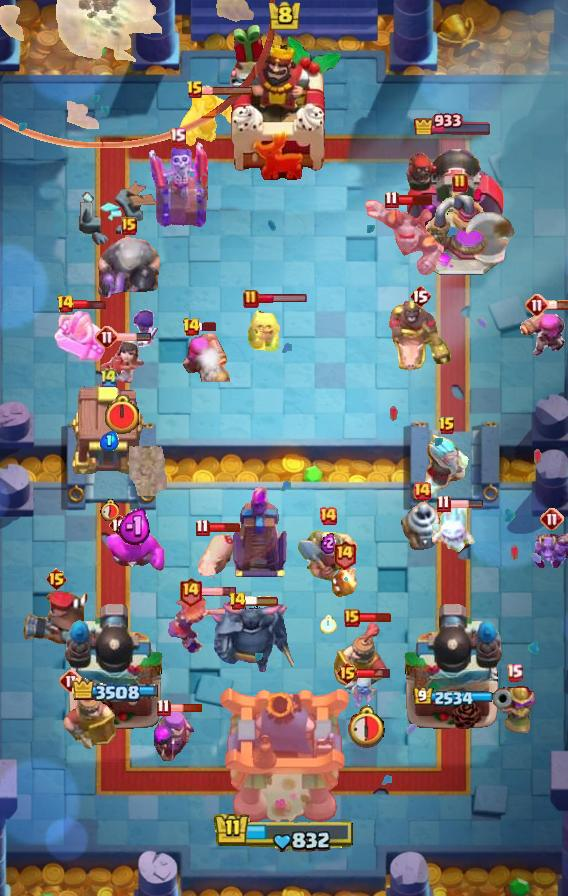axe: (462, 211, 518, 265)
bar: (202, 85, 254, 96), (257, 293, 308, 304), (397, 193, 434, 206), (72, 298, 107, 311), (244, 595, 280, 607), (357, 667, 392, 679), (200, 586, 237, 597), (358, 612, 392, 623), (207, 522, 241, 533), (448, 499, 484, 509), (116, 332, 152, 342), (168, 703, 203, 713), (546, 299, 568, 311), (198, 321, 218, 332)
bar-level: (178, 576, 203, 607), (332, 539, 357, 570), (59, 669, 83, 693), (540, 507, 564, 531), (95, 325, 119, 349), (525, 293, 549, 317), (336, 661, 359, 685), (45, 567, 68, 591), (108, 513, 130, 537), (409, 284, 431, 308), (99, 367, 119, 388), (318, 506, 338, 526), (412, 481, 432, 501), (228, 591, 247, 611), (182, 317, 201, 337), (56, 294, 75, 314), (438, 416, 456, 436), (186, 80, 204, 100), (506, 663, 523, 682), (169, 127, 186, 146), (243, 289, 259, 309), (452, 173, 468, 193), (344, 609, 360, 627), (121, 217, 137, 235), (156, 698, 171, 717), (195, 518, 210, 537), (436, 494, 451, 513), (384, 190, 399, 209)
cannoneer-tower: (403, 601, 503, 731), (64, 601, 164, 731), (401, 138, 505, 256)
clock: (344, 704, 385, 748), (103, 394, 141, 436), (100, 499, 119, 521), (320, 615, 337, 634)
dirt: (129, 446, 167, 496)
elite-barbarian: (177, 88, 243, 150), (52, 309, 108, 365)
elixir: (118, 508, 153, 546), (100, 431, 119, 451), (321, 532, 336, 554)
elixir-golem-mid: (104, 527, 166, 573)
fire-spirit: (329, 568, 359, 600)
firecracker: (180, 328, 230, 382), (518, 306, 568, 358)
heal-spirit: (246, 304, 284, 352)
hog: (195, 532, 237, 578)
hunter: (21, 584, 91, 646)
ice-spirit: (429, 505, 477, 553)
ice-wizard: (422, 433, 472, 497)
king-tower: (216, 684, 352, 826), (224, 23, 344, 181)
king-tower-bar: (214, 812, 355, 853)
mega-minion: (361, 197, 445, 275)
miner: (295, 528, 361, 590)
minion: (530, 533, 568, 571)
mother-witch: (151, 707, 197, 773)
musketeer: (493, 681, 535, 749)
princess: (97, 334, 147, 386)
royal-recruit: (334, 620, 390, 696), (62, 677, 116, 749)
skeleton: (349, 675, 379, 707)
skeleton-evolution: (129, 309, 161, 349)
tower-bar: (70, 678, 158, 703), (413, 110, 493, 135), (413, 687, 494, 708)
valkyrie-evolution: (166, 591, 249, 655)
zappy: (400, 500, 444, 552)
